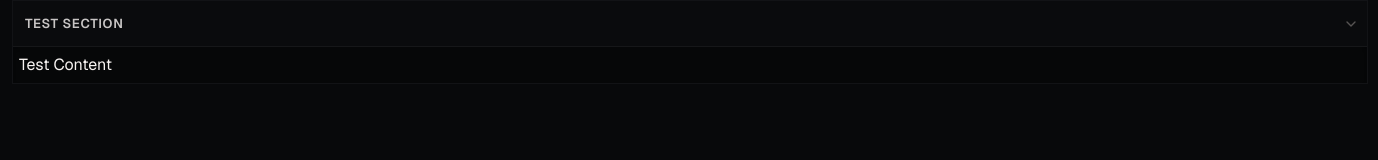
Scenario: CollapsibleSection › collapses when trigger is clicked
This screenshot has width=1378, height=160.
Expected: the text "Test Content" is shown, [19, 54, 112, 75]
// Click to collapse
Click the button with test id "test-section-trigger" at (74, 23), box [13, 6, 1331, 41]
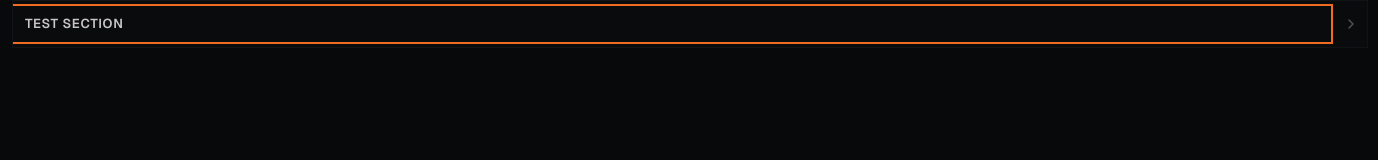
Now the text with test id "test-content" is gone
